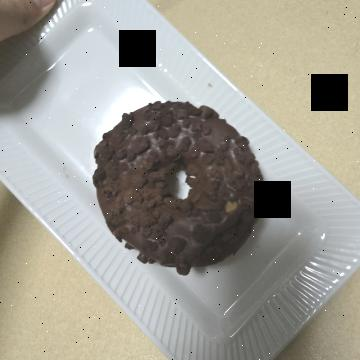doughnut: (86, 91, 284, 283)
